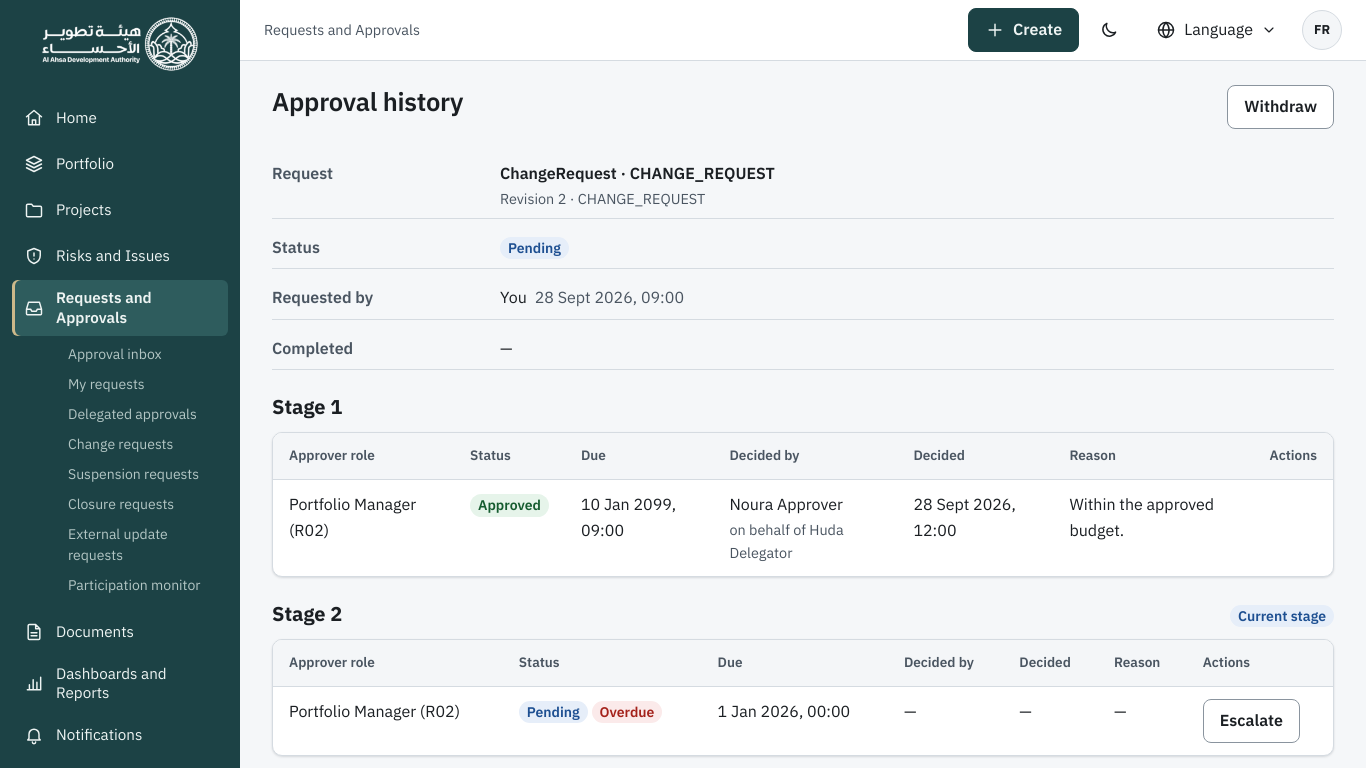
Test: SCR-115 approval history › the requester escalates an overdue task of the current stage, with an optional reason
# One overdue task of the current stage: exactly one Escalate button (getByRole throws on more).
Click the button "Escalate": (1251, 721) [1203,699,1300,743]
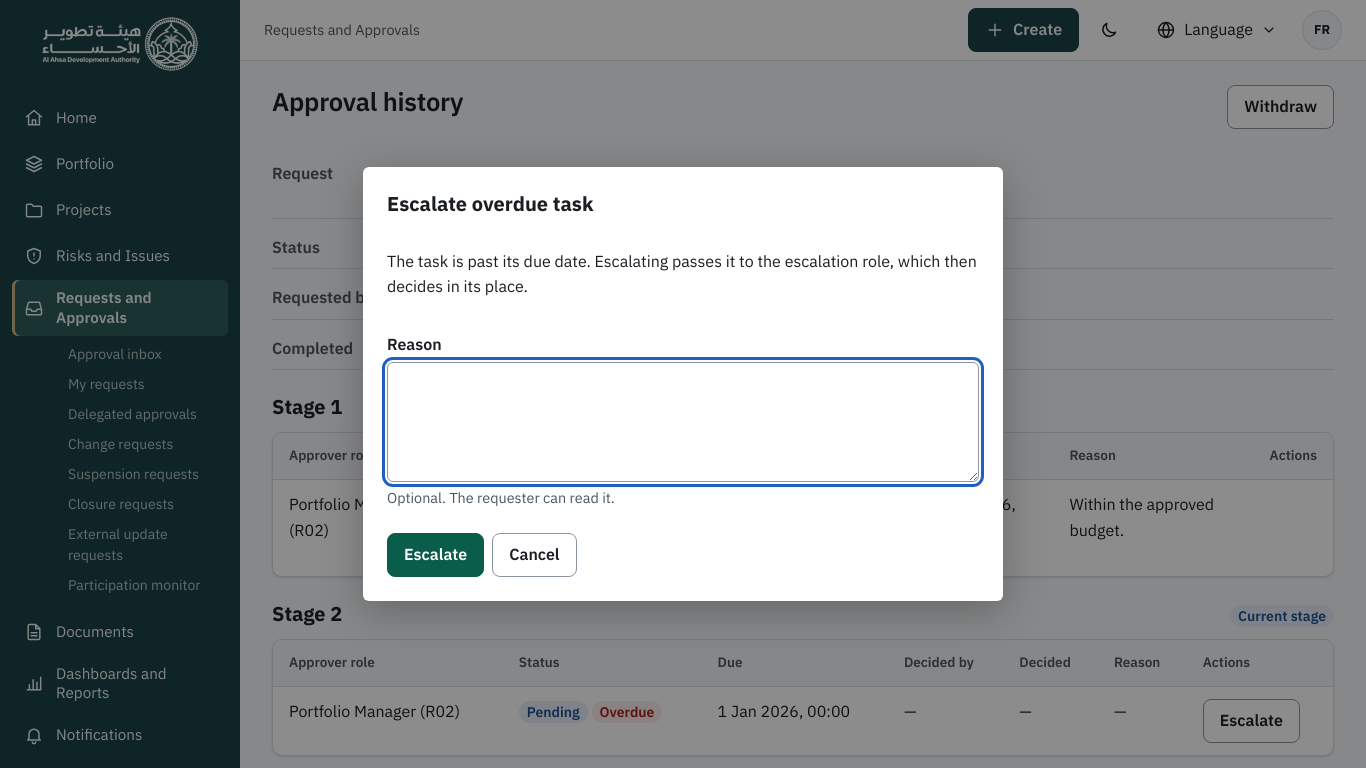
Click the button "Escalate": (436, 555) [387,533,484,577]
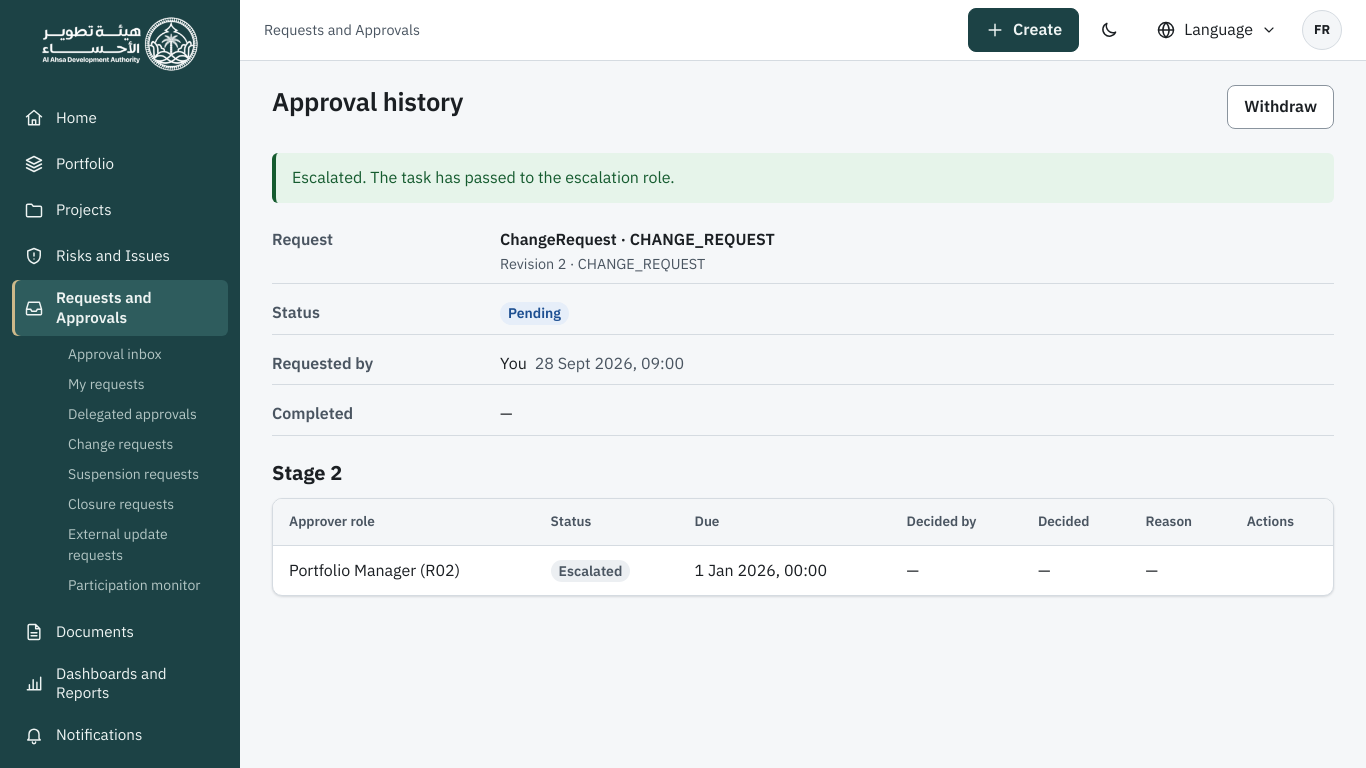
Expected: the text "Escalated. The task has passed to the escalation role." is shown, [272,153,1334,203]
Expected: the text "Escalated" is shown, [551,560,630,582]
